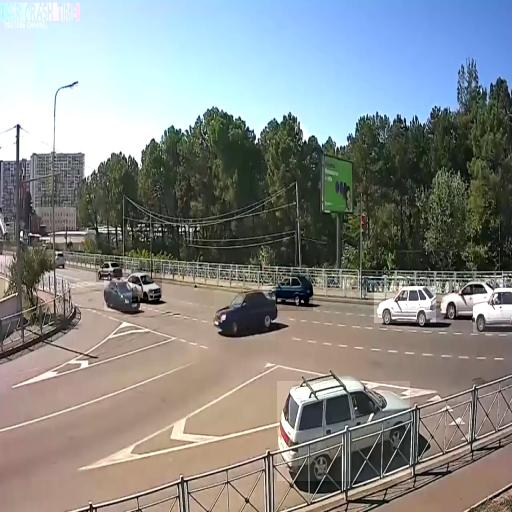小汽车: (277, 381, 410, 481), (214, 286, 276, 340), (374, 286, 436, 323), (442, 277, 488, 322), (268, 271, 313, 311), (473, 288, 512, 333), (104, 277, 141, 311), (132, 269, 162, 303), (96, 258, 123, 282)
